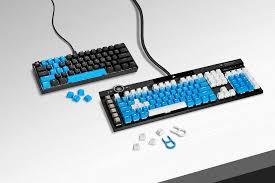keyboard: (98, 57, 263, 132), (31, 42, 138, 94)
